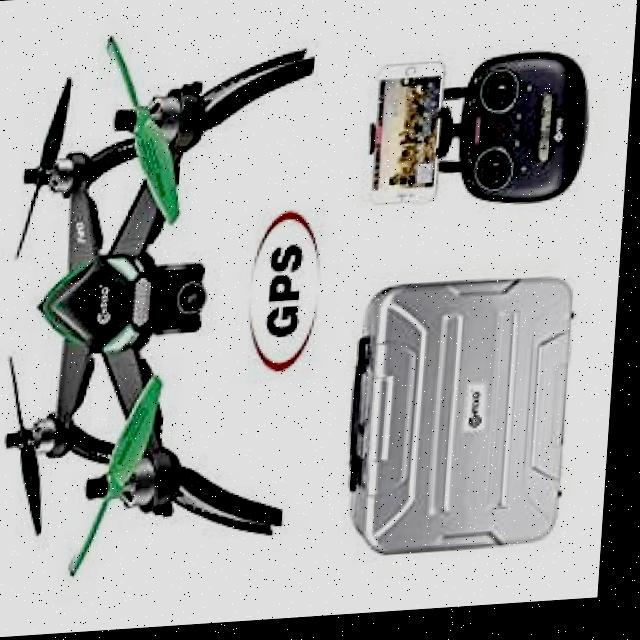drone: (0, 15, 338, 591)
